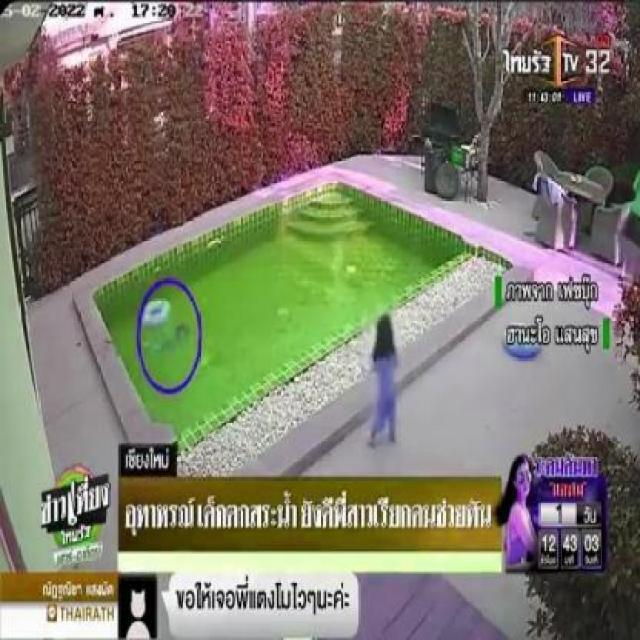drowning: (145, 324, 193, 361)
